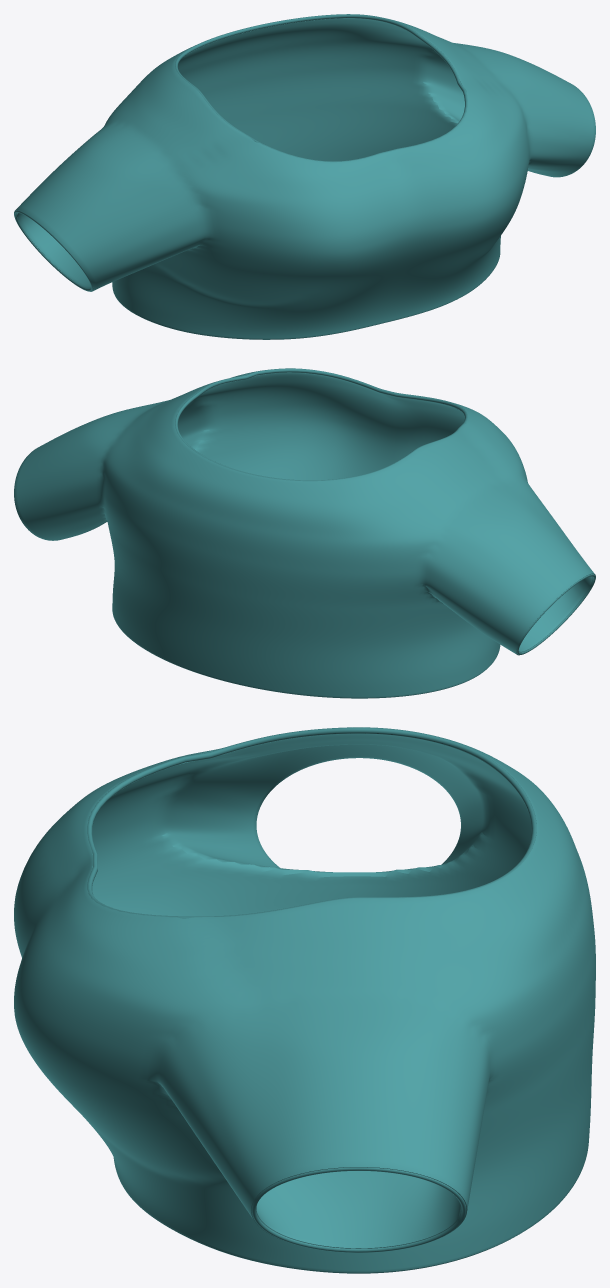
Rendered from Feminine-tshirt-top.glb.
3 renders of one model, top to bottom at view 1: azimuth 30°, elevation 25°; view 2: azimuth 150°, elevation 25°; view 3: azimuth 270°, elevation 25°, orthographic. The views are drawn at different scales.
Visible parts, largest first — view 1: Clothing / tshirt, Neckline / fitted crew export, Sleeve / soft cuff -1 export; view 2: Clothing / tshirt, Neckline / fitted crew export, Sleeve / soft cuff -1 export; view 3: Clothing / tshirt, Neckline / fitted crew export, Sleeve / soft cuff 1 export.
Part boxes in pixels (bbox=[...]): Clothing / tshirt: bbox=[14, 18, 595, 339]; Neckline / fitted crew export: bbox=[175, 14, 467, 162]; Sleeve / soft cuff -1 export: bbox=[14, 210, 93, 291]; Clothing / tshirt: bbox=[14, 368, 595, 697]; Neckline / fitted crew export: bbox=[175, 368, 467, 481]; Sleeve / soft cuff -1 export: bbox=[516, 574, 595, 654]; Clothing / tshirt: bbox=[14, 727, 595, 1272]; Neckline / fitted crew export: bbox=[87, 727, 536, 918]; Sleeve / soft cuff 1 export: bbox=[251, 1167, 466, 1252].
Size of the model in its own units: 0.9345 by 0.3414 by 0.5531.
